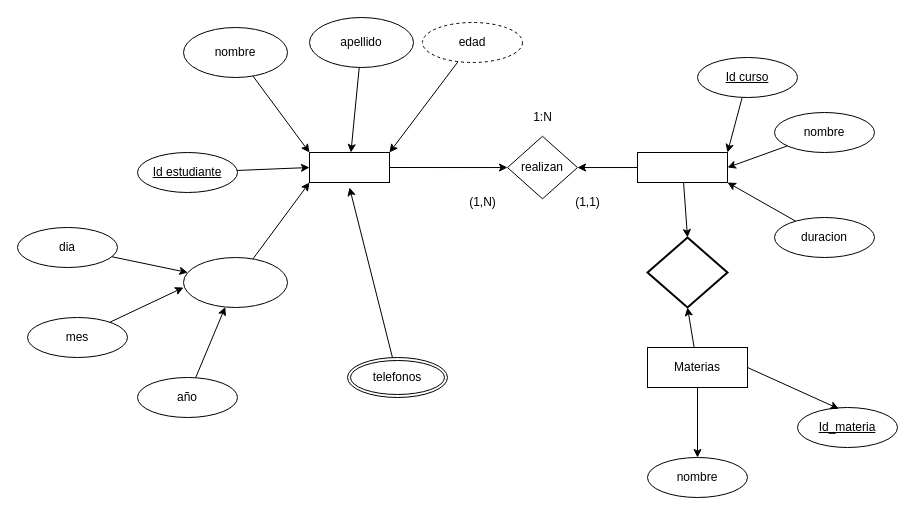
Some shapes in this 915 by 515 pixel diagram are drawn without their labels. Each missing label, with the centre of its shape:
"Curso" goes at (682,167).
"Estudiante" goes at (349,167).
"fecha de nacimiento" goes at (235,282).
"Pertenece" goes at (687,272).
